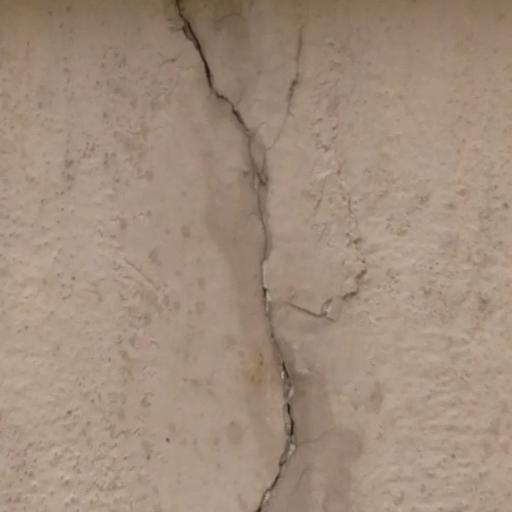major_crack: (163, 0, 350, 512)
